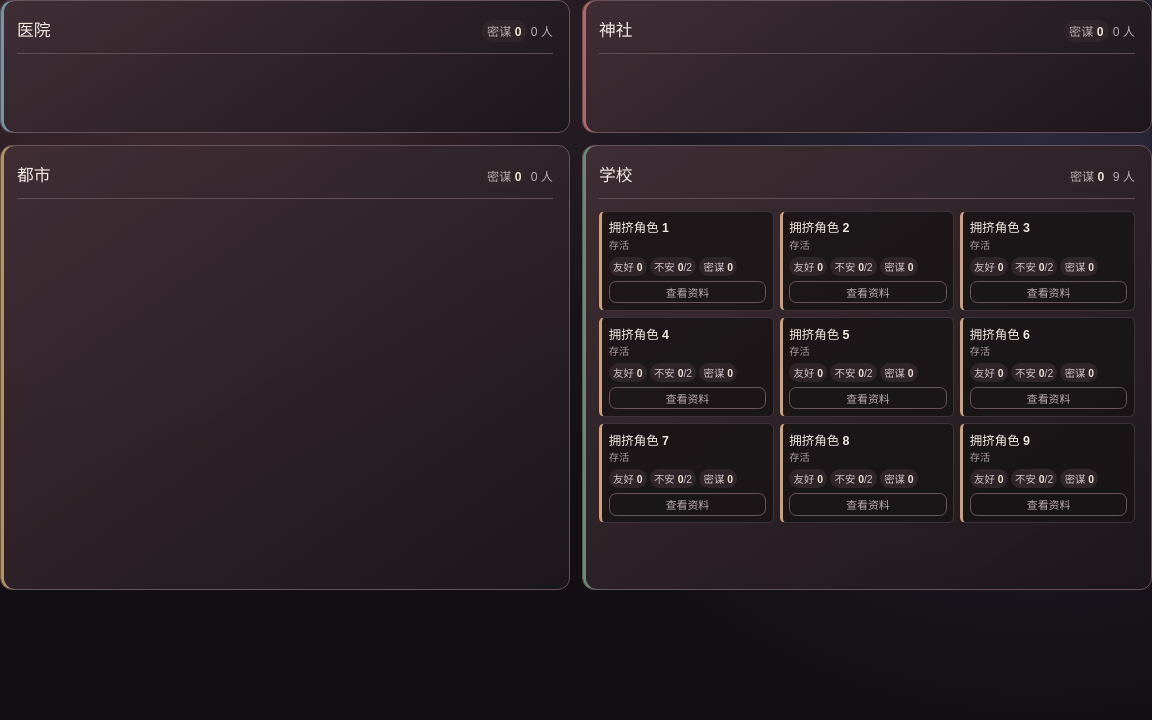
Test: local game components › uses a packed grid for nine characters and keeps details in a modal
Check: the element named "密谋 0" is shown, box [1066,165,1109,187]
Check: the text "9 人" is shown, box [1113,167,1135,185]
Click the button with aria-label "查看拥挤角色 1资料" at x=687, y=292, box [609,281,766,304]
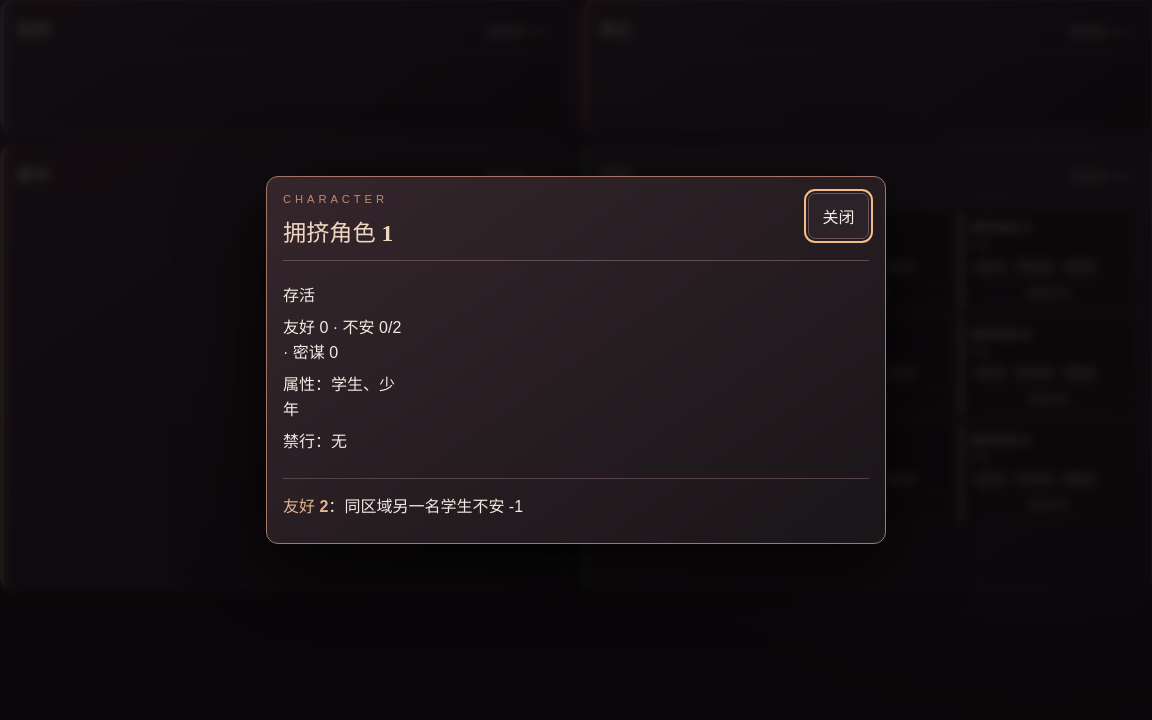
Check: the dialog "拥挤角色 1" is shown, box [266,176,886,544]
Check: the text "属性：学生、少年" is shown, box [283,373,403,423]
Press Escape
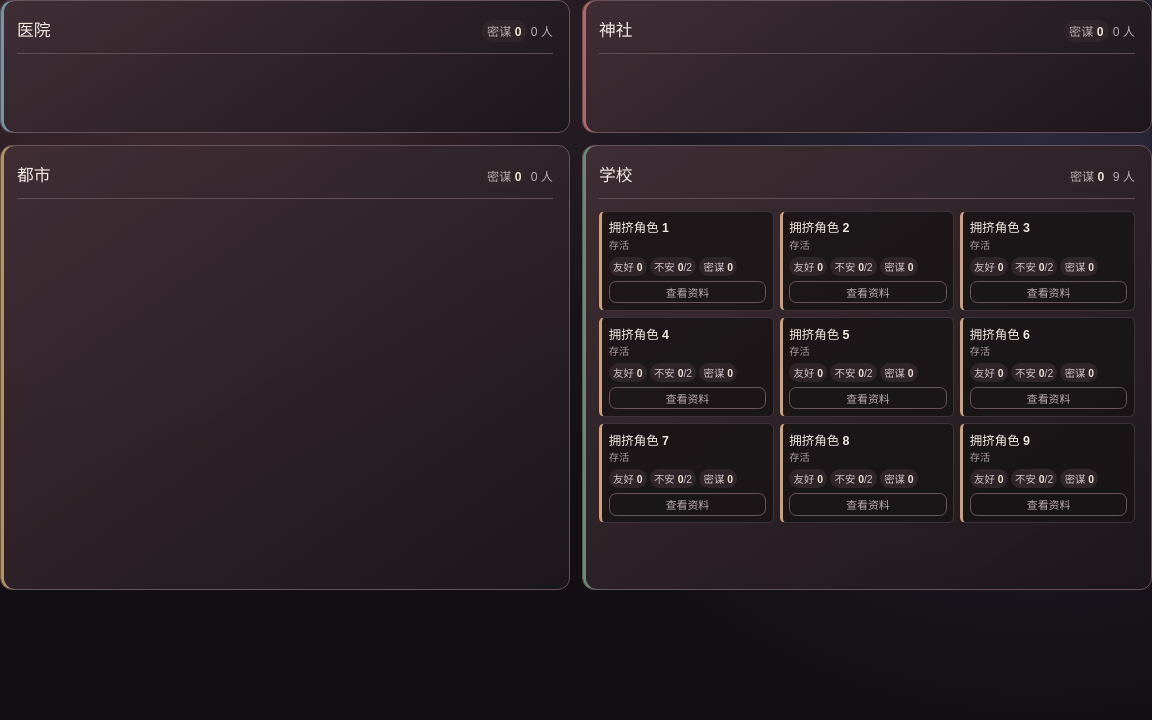
Check: the dialog is gone
